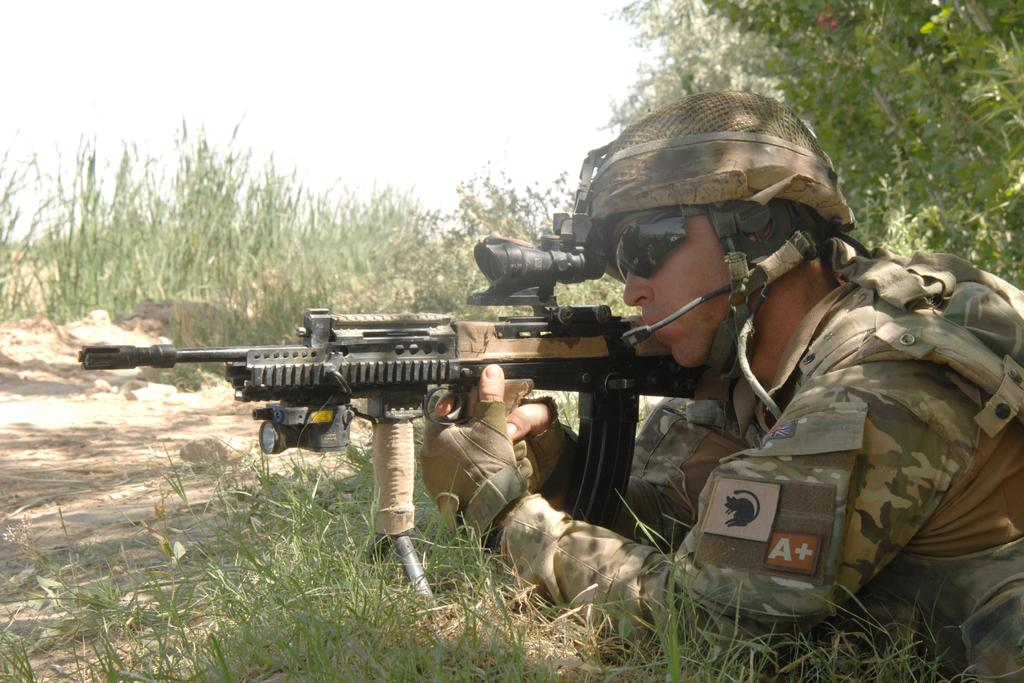Rifle: (76, 209, 706, 613)
